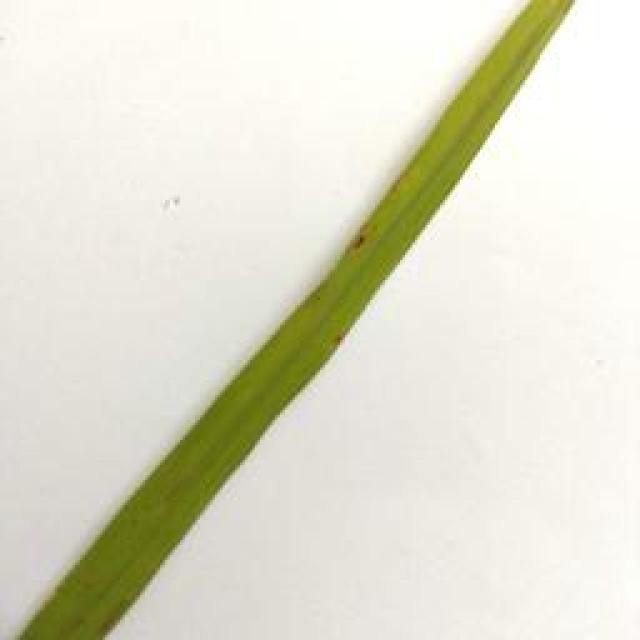Brown_Spot: (87, 609, 131, 640), (350, 215, 372, 257), (336, 322, 354, 361)
